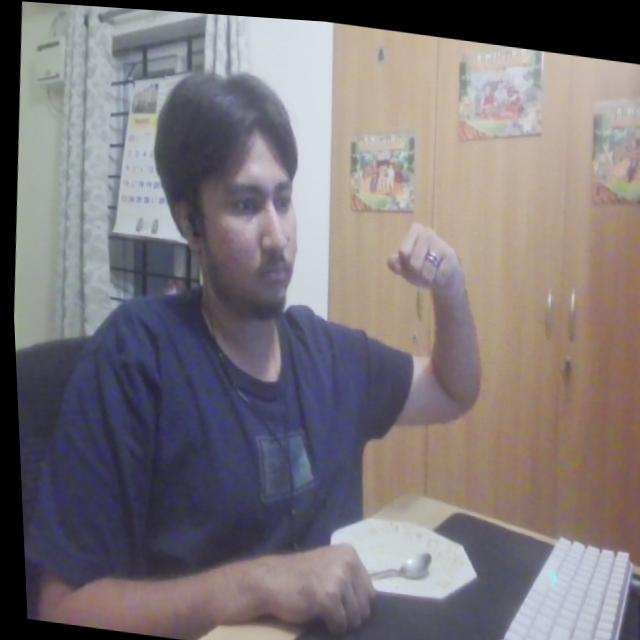yes: (375, 200, 473, 297)
